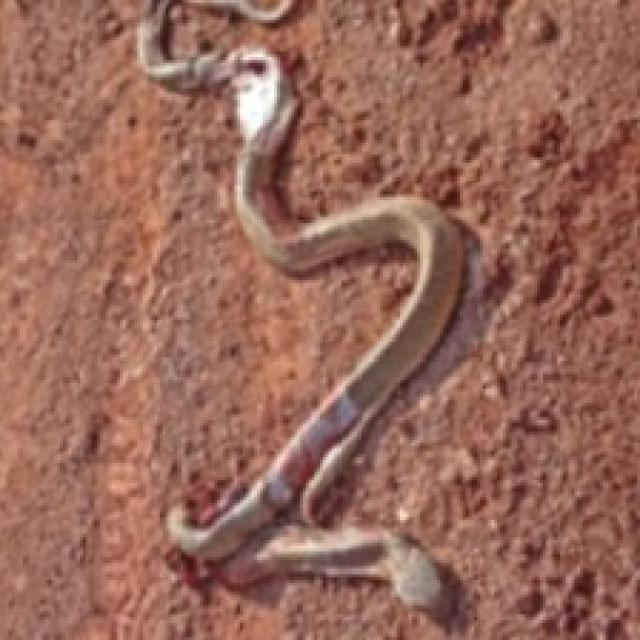king cobra: (137, 0, 477, 626)
